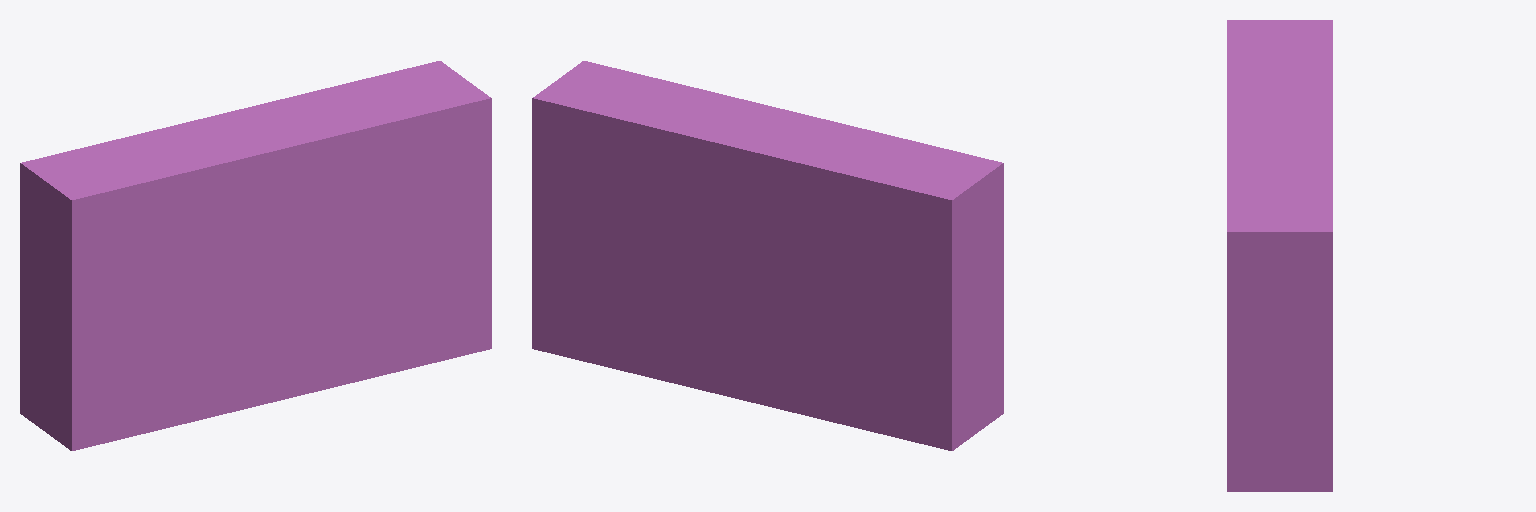
URDF robot description (plank_of_wood):
<robot name="plank_of_wood">
  <link name="base_link">
    <visual>
      <geometry>
        <box size="0.203 0.043 0.116"/>
      </geometry>
      <material name="wood">
        <color rgba="0.8 0.5 0.8 1"/>
      </material>
    </visual>
    <collision>
      <geometry>
        <box size="0.203 0.043 0.116"/>
      </geometry>
    </collision>
    <inertial>
      <!--TODO: The object has not been weighed.-->
      <mass value="0.4"/>
      <!--TODO: Compute inertia -->
      <inertia ixx="0.1"  ixy="0"  ixz="0" iyy="0.1" iyz="0" izz="0.1" />
    </inertial>
  </link>
  <!--TODO: Add tags -->
  <joint name="tag36_11_00000_joint" type="fixed">
    <parent link="base_link"/>
    <child  link="tag36_11_00000"/>
    <origin xyz="-0.056 -0.0195 0.01" />
  </joint>
  <joint name="tag36_11_00002_joint" type="fixed">
    <parent link="base_link"/>
    <child  link="tag36_11_00002"/>
    <origin xyz="-0.056  0.0195 0.01" rpy="1.5707963267948966 0 3.141592653589793" />
  </joint>
  <link name="tag36_11_00000">
    <visual>
      <geometry>
        <box size="0.06 0.002 0.06"/>
      </geometry>
      <material name="red">
        <color rgba="0.8 0 0 1"/>
      </material>
    </visual>
  </link>
  <link name="tag36_11_00002">
    <visual>
      <geometry>
        <box size="0.06 0.06 0.002"/>
      </geometry>
      <material name="green">
        <color rgba="0 0.8 0 1"/>
      </material>
    </visual>
  </link>
</robot>

--- Render facts (derived) ---
3 views of the same robot in one strip: view 1: azimuth 30°, elevation 25°; view 2: azimuth 150°, elevation 25°; view 3: azimuth 270°, elevation 25° (orthographic).
Robot: plank_of_wood — 3 links, 2 joints (2 fixed); root link base_link; default pose: all joints at 0.
Links seen in each view (by area): view 1: base_link; view 2: base_link; view 3: base_link.
Boxes of the visible links, bbox=[...] form: base_link: bbox=[20, 61, 491, 450]; base_link: bbox=[532, 61, 1003, 450]; base_link: bbox=[1227, 20, 1332, 491].
Size in the robot's own frame: 0.203 by 0.043 by 0.116 metres.
Geometry: primitives only (box / cylinder / sphere), no mesh files.
